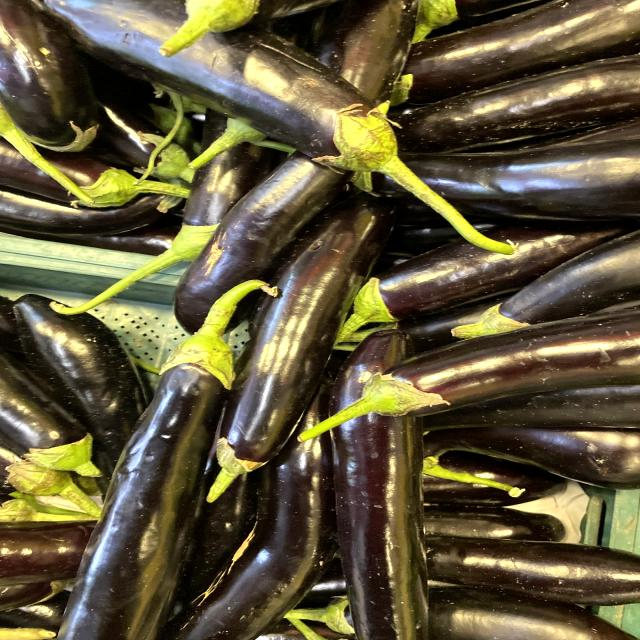eggplant: (31, 0, 526, 256), (51, 269, 289, 640), (290, 308, 640, 447)
